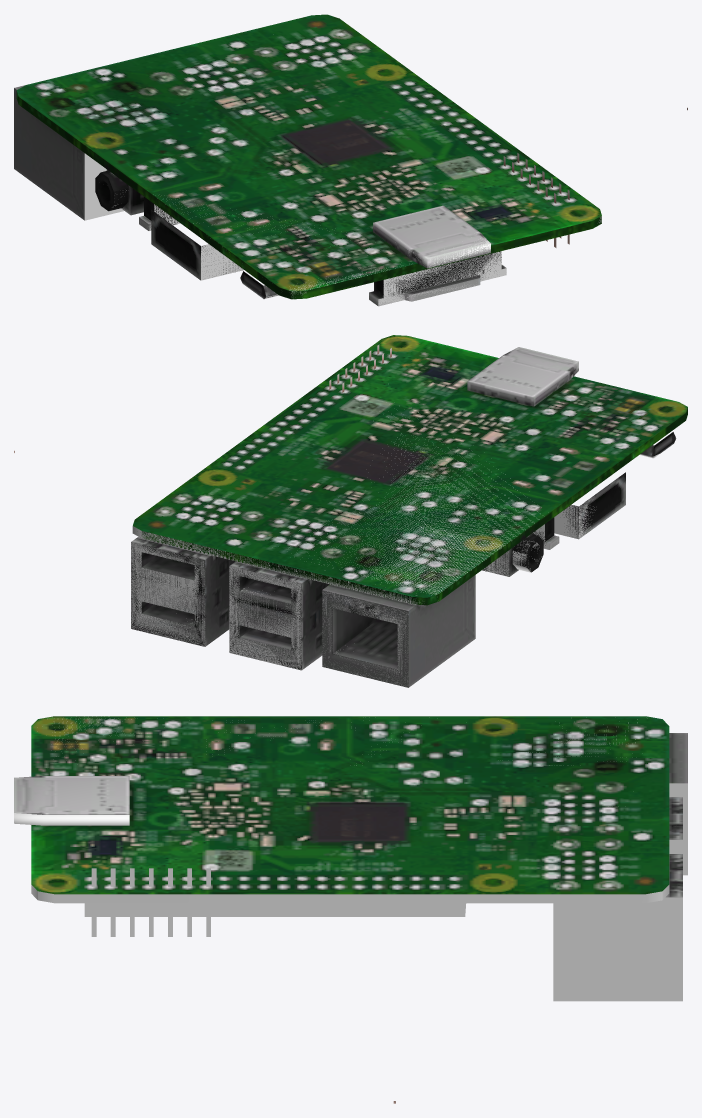
File: pku_blade_circuit.glb
The picture shows the model from 3 angles, top to bottom: view 1: azimuth 30°, elevation 25°; view 2: azimuth 150°, elevation 25°; view 3: azimuth 270°, elevation 25°; orthographic projection. The views are drawn at different scales.
Visible parts, largest first — view 1: g_circuit, o_circuit; view 2: g_circuit, o_circuit; view 3: g_circuit, o_circuit.
Boxes of the visible parts, x1,y1,x2,y2 form: g_circuit: (14,14,601,305); o_circuit: (84,153,601,306); g_circuit: (131,335,687,687); o_circuit: (131,412,659,686); g_circuit: (14,716,687,897); o_circuit: (14,719,687,1001).
Bounding box in the file's own units: 0.1728 × 0.032 × 0.1569.
2 materials, 1 textured.
